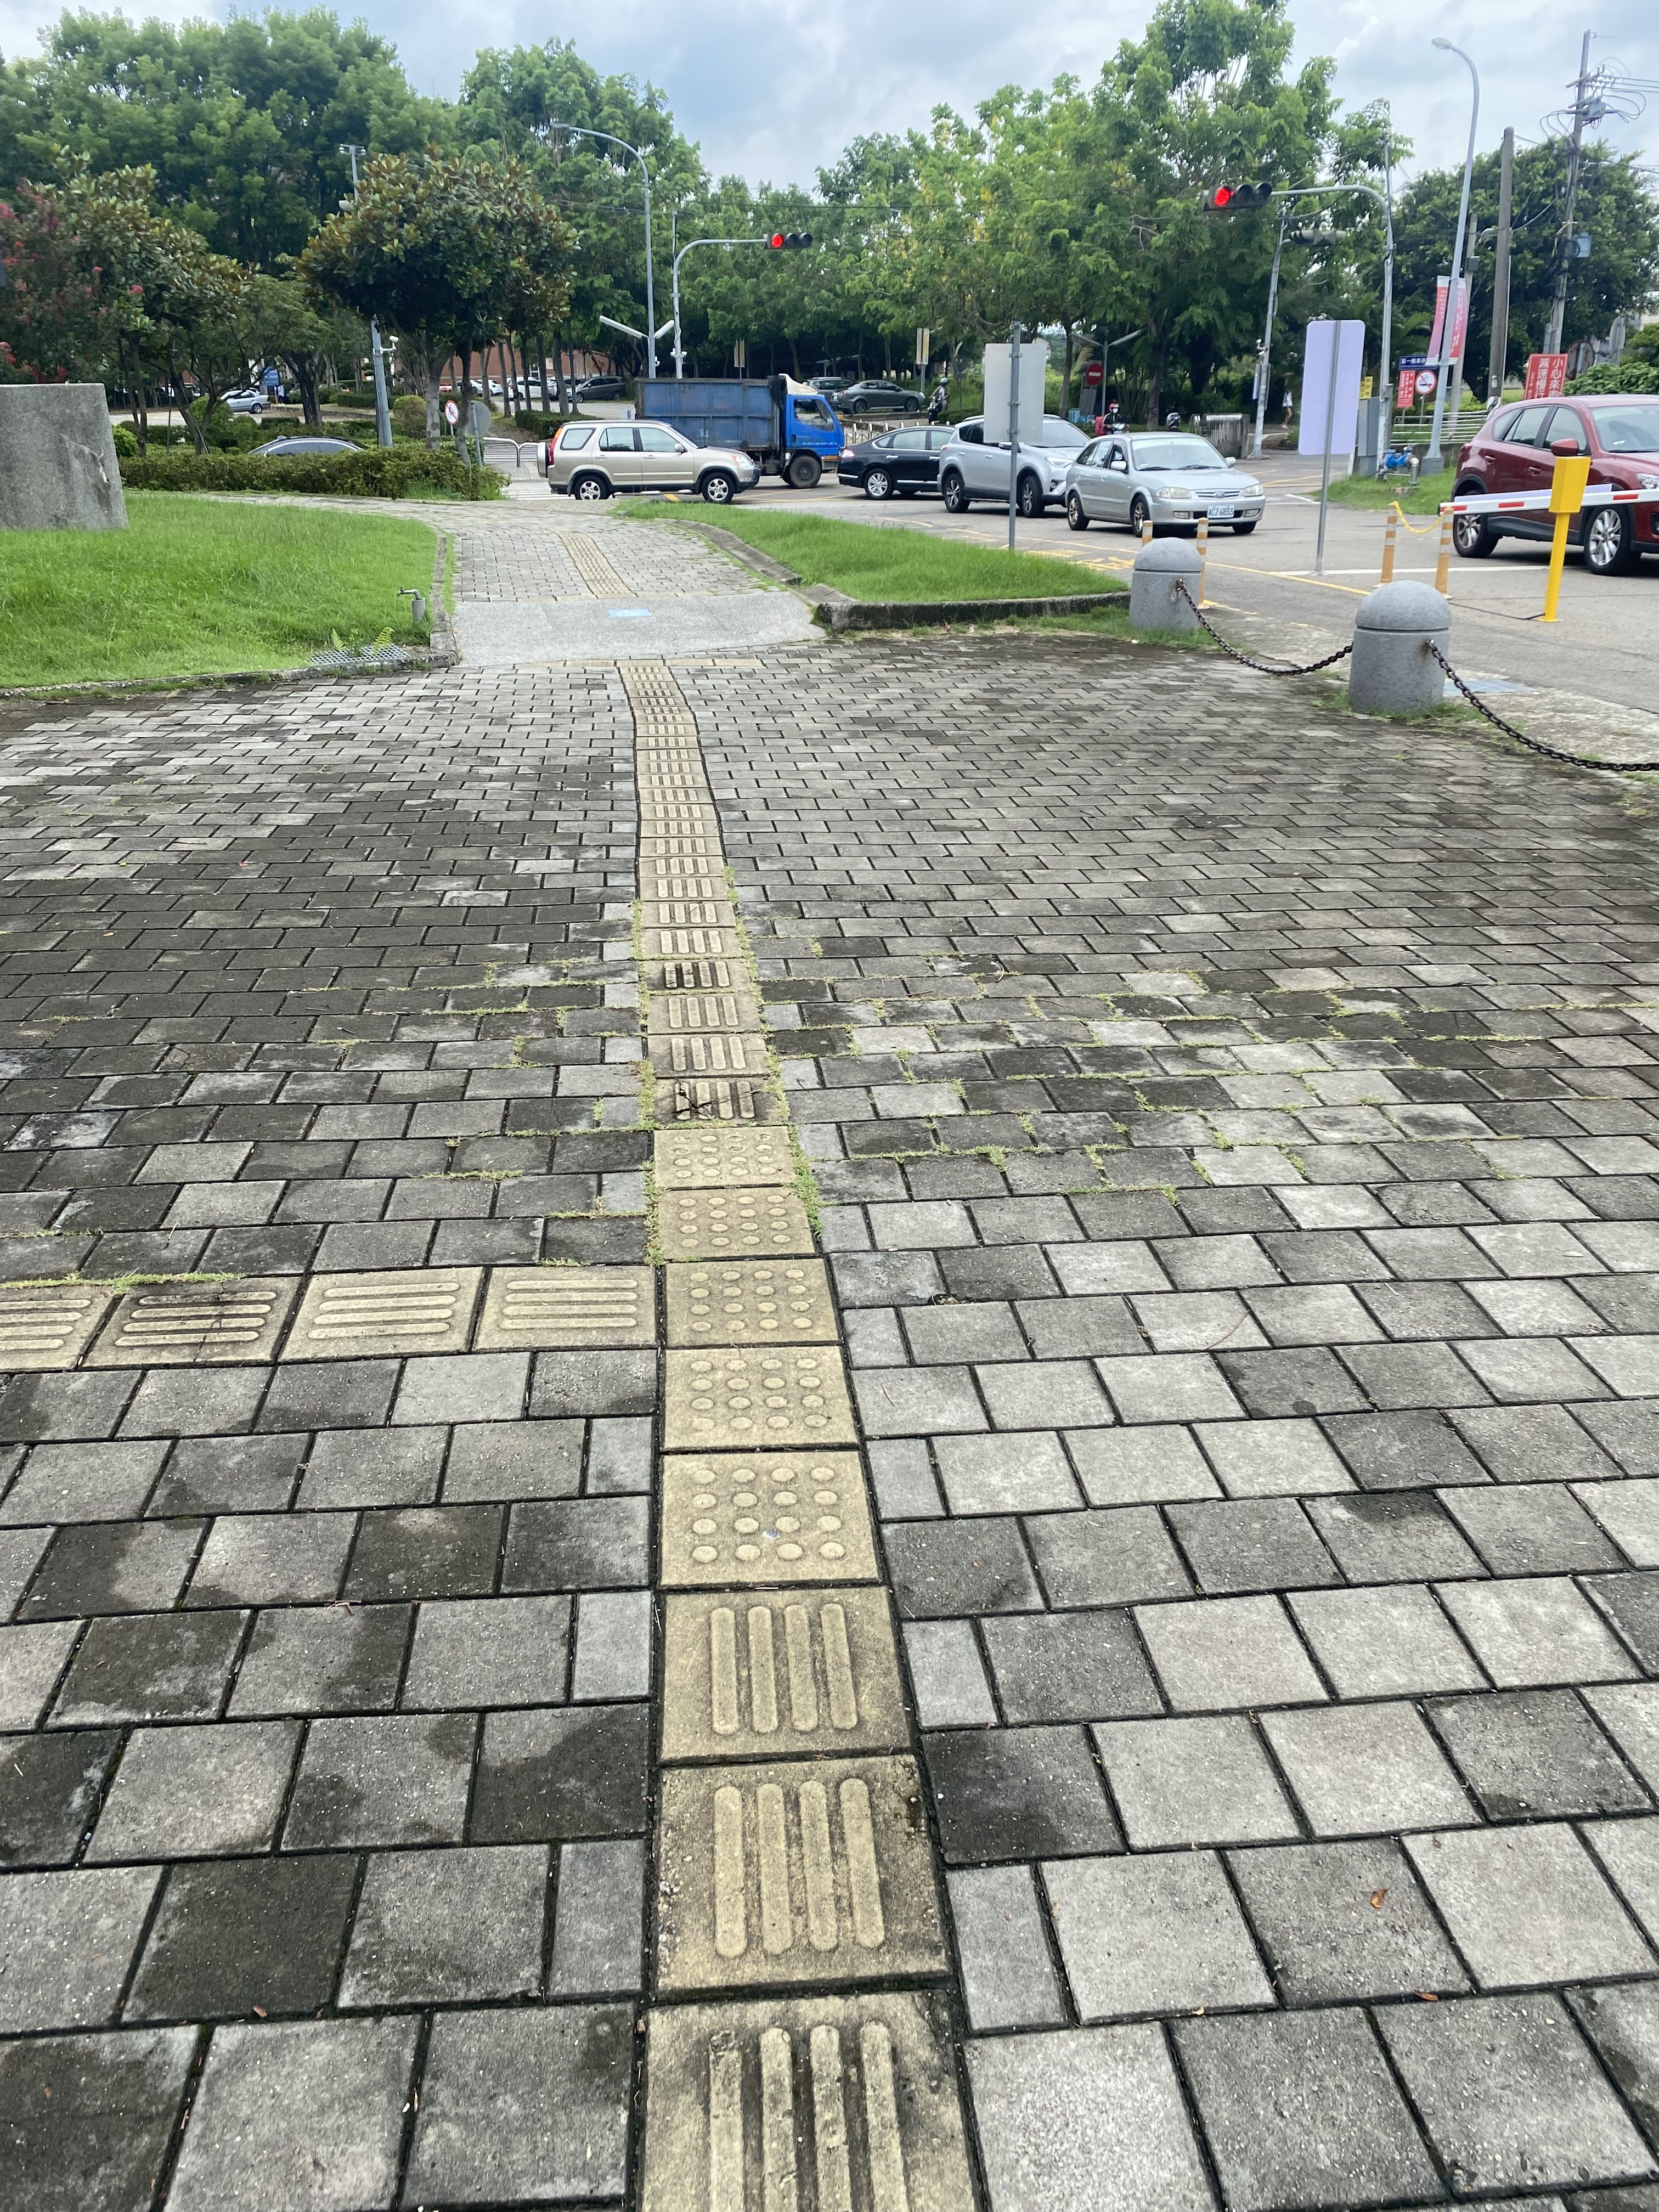0: (369, 486, 892, 751)
sidewalk: (0, 676, 1659, 2212)
